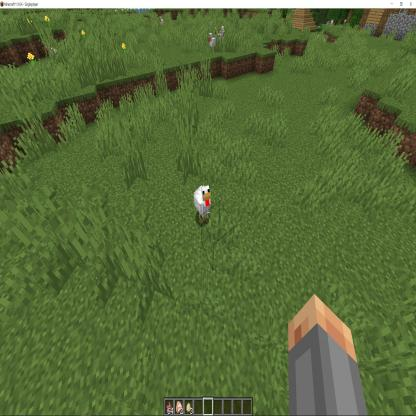minecraft-pigs: (193, 183, 213, 227), (208, 30, 217, 54), (218, 27, 224, 48), (158, 15, 164, 29)
